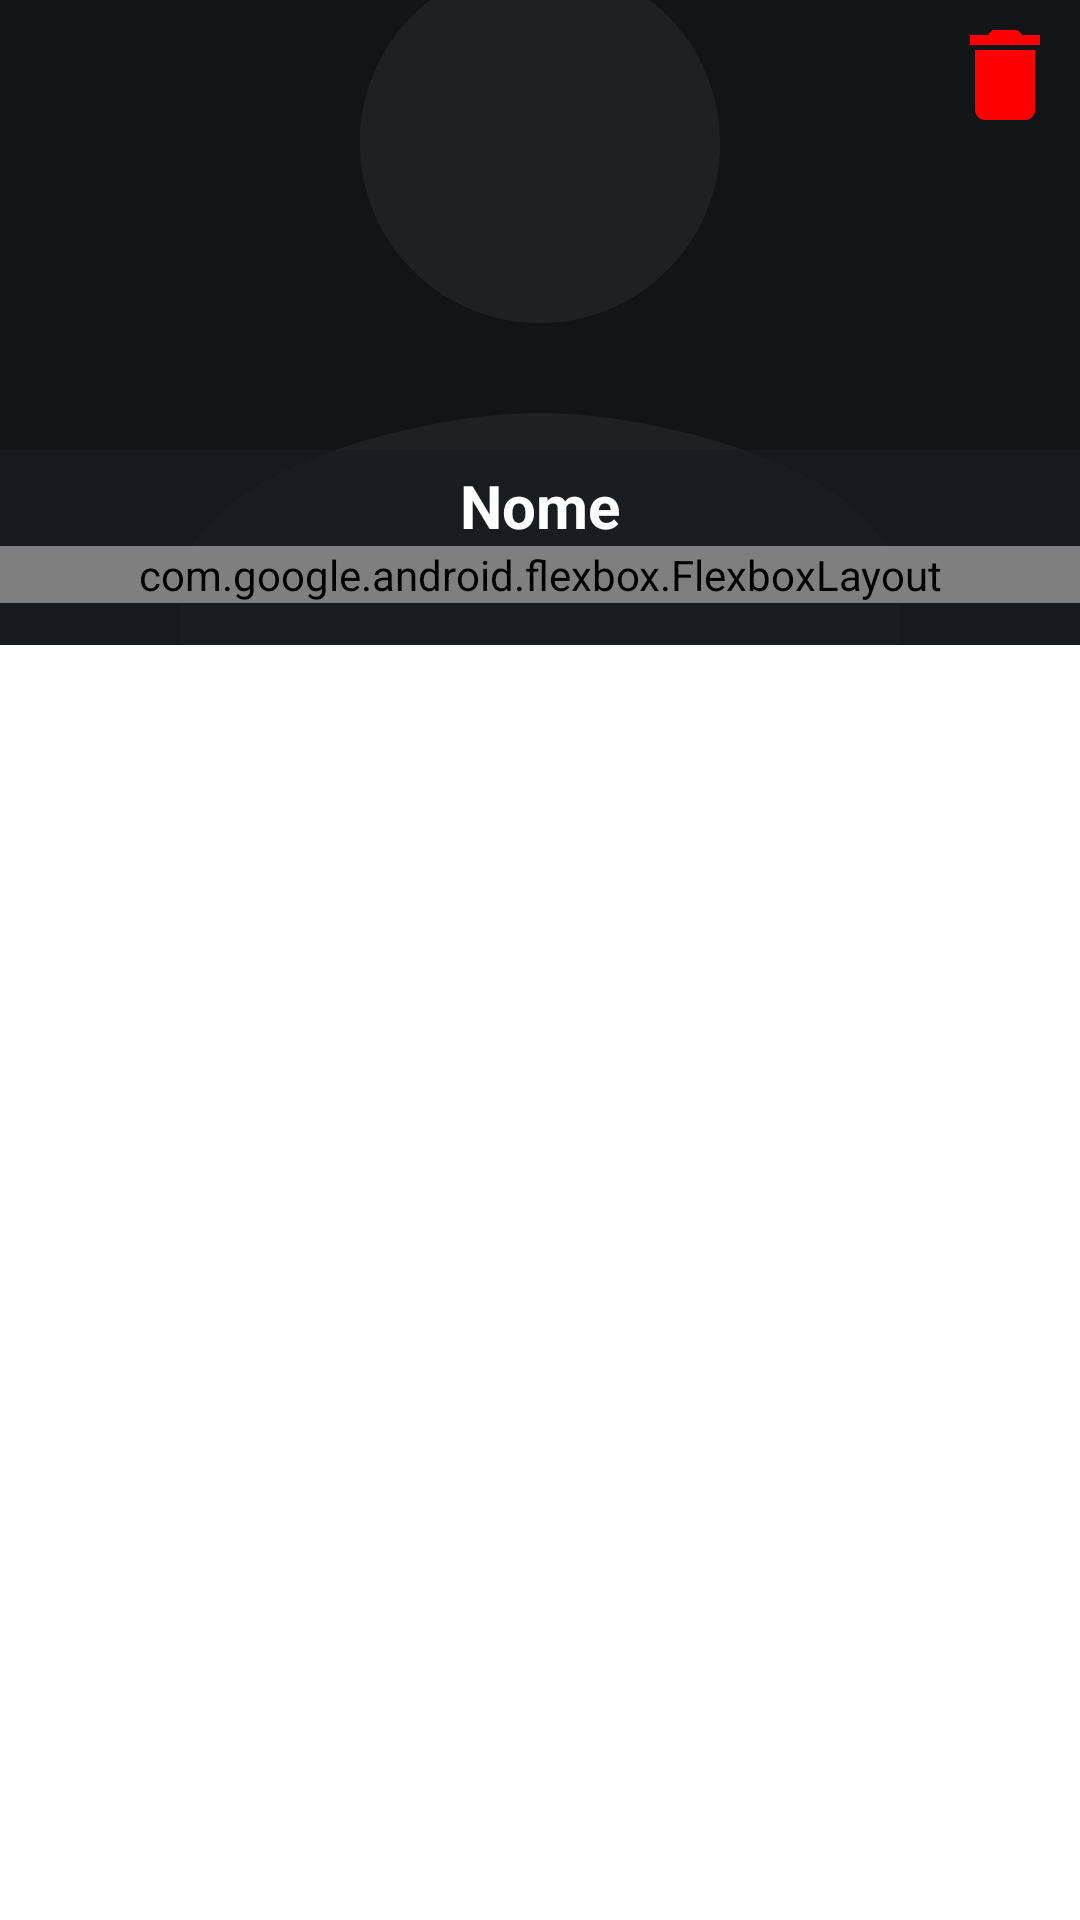

Point at icon controls on the screen. Image size 1080w x 1920h, points as point (x, y).
delete: point (1005, 75)
